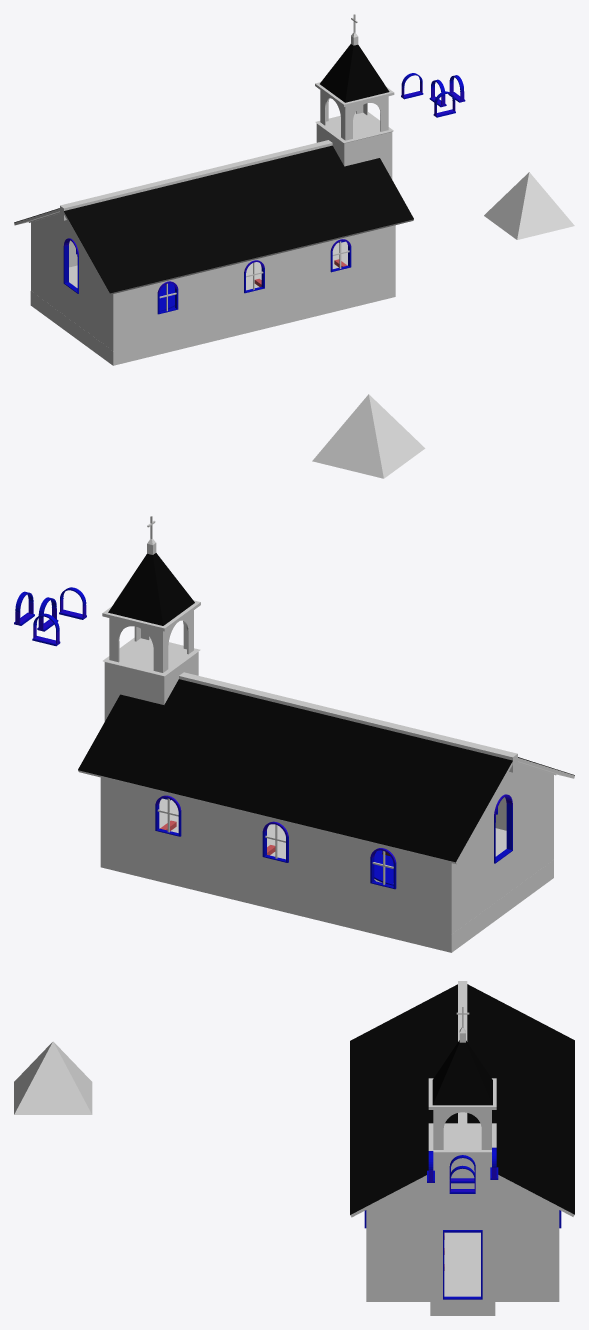
File: church_Greyscale_towerwork.fbx
3 views of the same model, one above another, from view 1: azimuth 30°, elevation 25°; view 2: azimuth 150°, elevation 25°; view 3: azimuth 270°, elevation 25° (orthographic). The views are drawn at different scales.
Parts seen in each view (by area): view 1: right tiles, right wall.002, Cube.004, Cube.003, tower roof, tower roof.001, roof support beam, tower right wall, Cube, right roof, Cube.020, floor (+2 smaller); view 2: left shingles, left wall, Cube.004, Cube.003, tower roof, tower roof.001, roof support beam, Tower left wall, Cube, left roof, Cube.001, floor (+1 smaller); view 3: right tiles, left shingles, tower back wall, back left wall, back right wall, tower roof, tower roof.001, Cube.004, floor, Cube, Cube.005, Cube.011 (+3 smaller).
Boxes of the visible parts, left/top/right/bottom form: right tiles: left=64, top=145, right=413, bottom=293; right wall.002: left=114, top=225, right=394, bottom=350; Cube.004: left=30, top=282, right=395, bottom=365; Cube.003: left=31, top=221, right=114, bottom=350; tower roof: left=484, top=172, right=574, bottom=239; tower roof.001: left=320, top=44, right=389, bottom=102; roof support beam: left=60, top=140, right=332, bottom=220; tower right wall: left=343, top=132, right=391, bottom=177; Cube: left=315, top=112, right=393, bottom=143; right roof: left=64, top=212, right=413, bottom=294; Cube.020: left=344, top=96, right=387, bottom=140; floor: left=246, top=242, right=347, bottom=290; left shingles: left=78, top=679, right=512, bottom=862; left wall: left=101, top=777, right=451, bottom=934; Cube.004: left=100, top=849, right=553, bottom=952; Cube.003: left=451, top=773, right=553, bottom=933; tower roof: left=312, top=394, right=425, bottom=478; tower roof.001: left=108, top=553, right=194, bottom=625; roof support beam: left=179, top=672, right=517, bottom=772; Tower left wall: left=104, top=662, right=164, bottom=718; Cube: left=103, top=637, right=200, bottom=676; left roof: left=78, top=762, right=512, bottom=864; Cube.001: left=109, top=618, right=163, bottom=672; floor: left=159, top=800, right=285, bottom=859; right tiles: left=350, top=984, right=457, bottom=1214; left shingles: left=467, top=984, right=574, bottom=1214; tower back wall: left=432, top=1152, right=495, bottom=1298; back left wall: left=495, top=1178, right=559, bottom=1284; back right wall: left=366, top=1178, right=430, bottom=1284; tower roof: left=14, top=1041, right=92, bottom=1114; tower roof.001: left=432, top=1040, right=492, bottom=1105; Cube.004: left=366, top=1285, right=559, bottom=1301; floor: left=444, top=1232, right=480, bottom=1283; Cube: left=428, top=1123, right=496, bottom=1152; Cube.005: left=430, top=1298, right=495, bottom=1315; Cube.011: left=433, top=1110, right=491, bottom=1149.
Size of the model in its own units: 5185 by 3141 by 5402.
